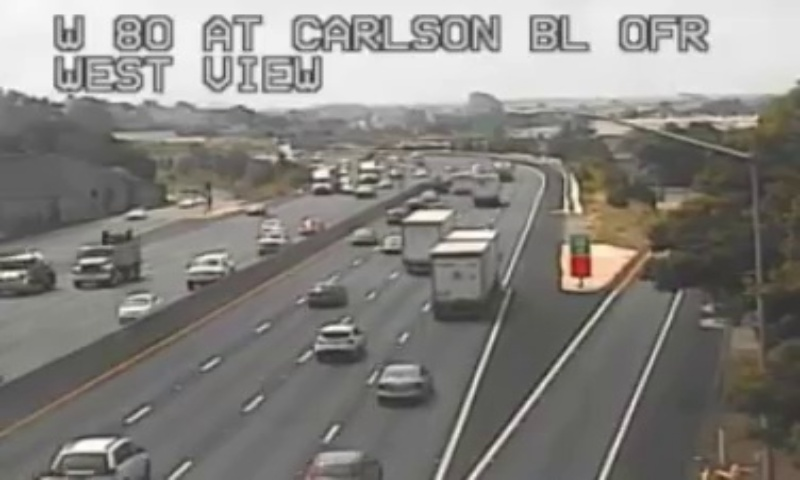car: (51, 436, 148, 480), (306, 451, 382, 480), (376, 362, 429, 400), (314, 323, 365, 357), (306, 283, 344, 306)
truck: (429, 229, 500, 319), (402, 207, 455, 272)
